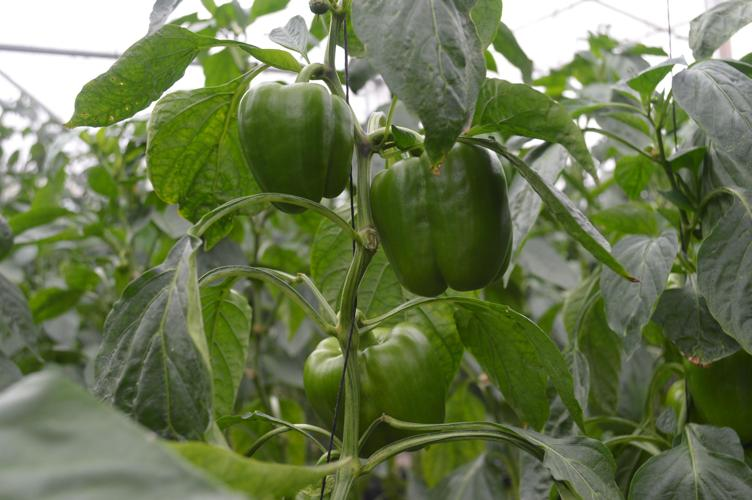BellPepper: (368, 153, 515, 300), (300, 311, 444, 455), (226, 69, 359, 202)
